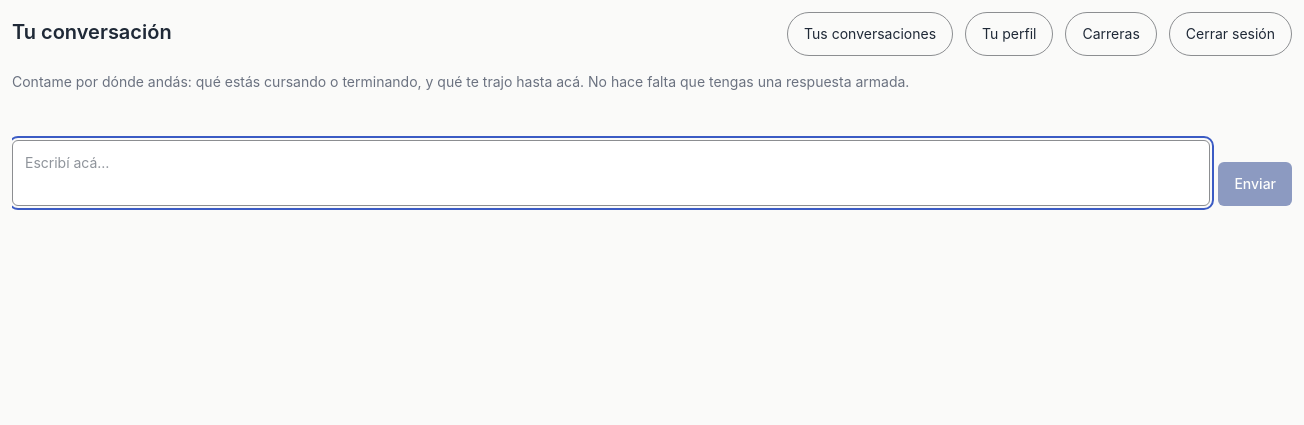
Test: Conversacion · el cierre y el informe (S4-04) › la respuesta que cierra lleva el foco al informe y lo anuncia
In the text box named "escribí tu mensaje": (611, 173) x1=12 y1=140 x2=1210 y2=206, type "Nada más"
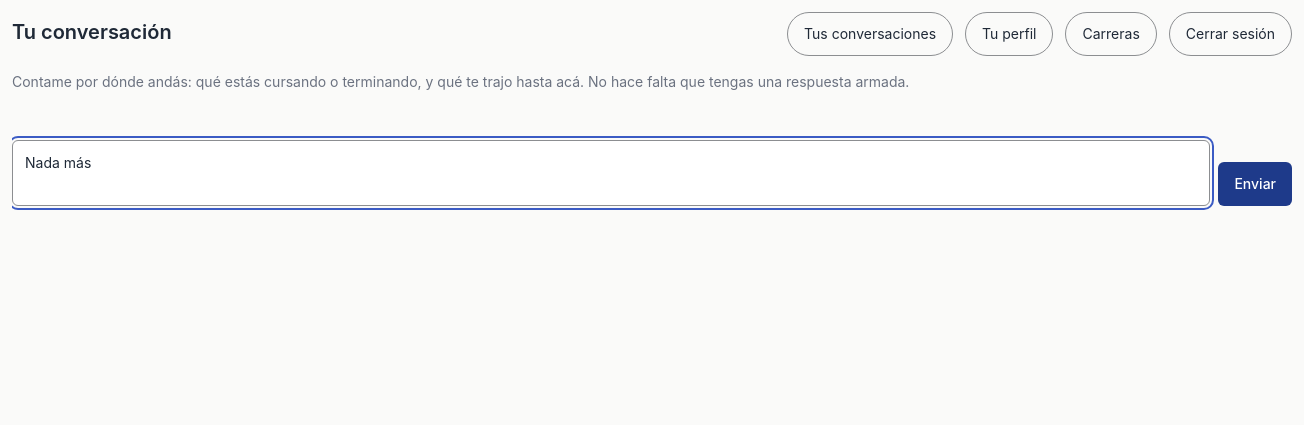
Click the button "Enviar": (1255, 184) x1=1218 y1=162 x2=1292 y2=206
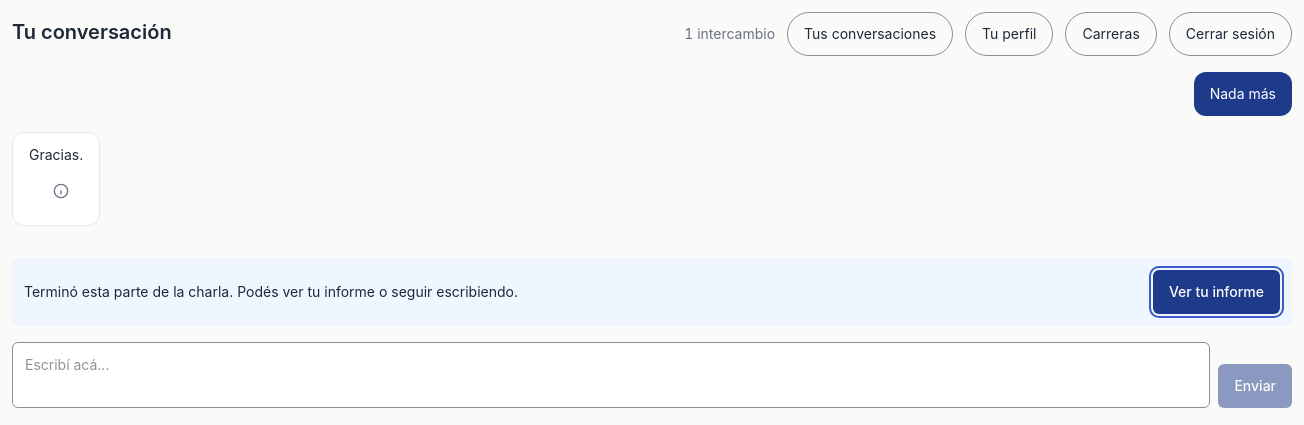
Now the message shows "Terminó esta parte de la charla", box x1=24 y1=283 x2=518 y2=300
